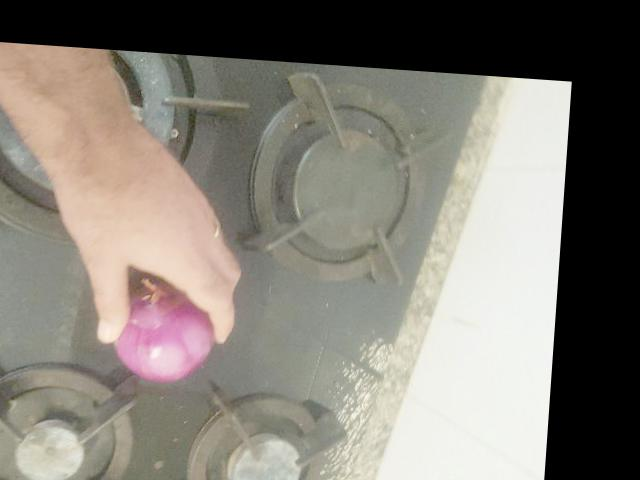onion: (108, 289, 210, 378)
